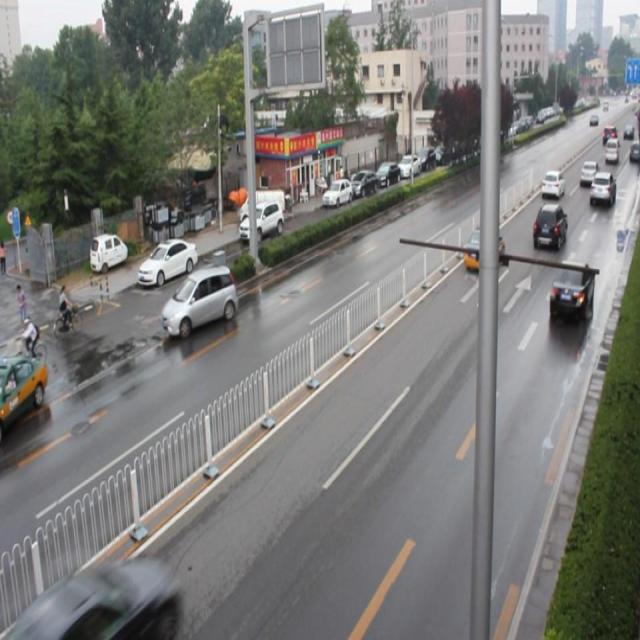car: (162, 266, 238, 342), (549, 260, 593, 321), (462, 224, 503, 274), (530, 201, 564, 249), (588, 171, 614, 206), (539, 168, 563, 200)
